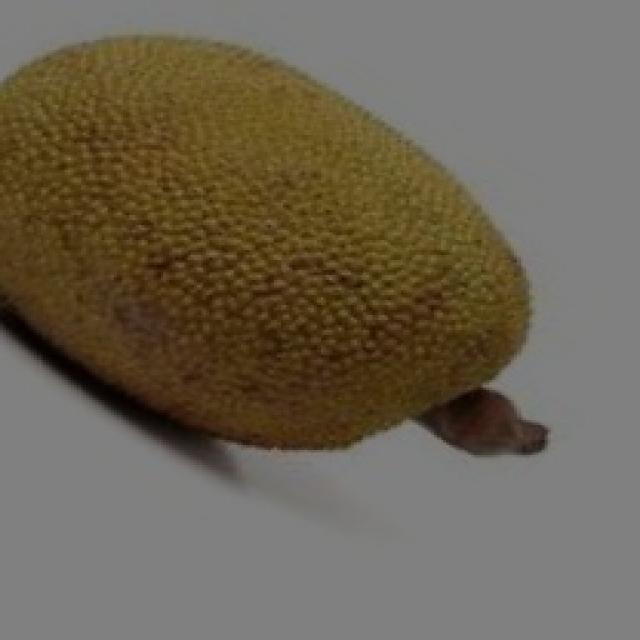Fruit: (0, 5, 406, 460), (228, 12, 575, 462)
